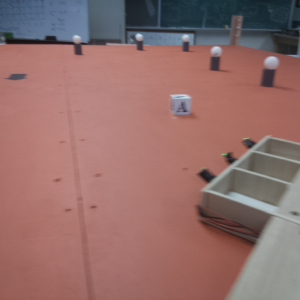obstacle: (260, 54, 279, 91), (208, 46, 222, 70), (69, 35, 83, 54), (179, 35, 191, 53), (135, 31, 143, 52)
side: (188, 133, 297, 201)
slope: (211, 218, 298, 300)
